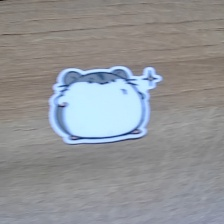mouse: (50, 64, 164, 148)
